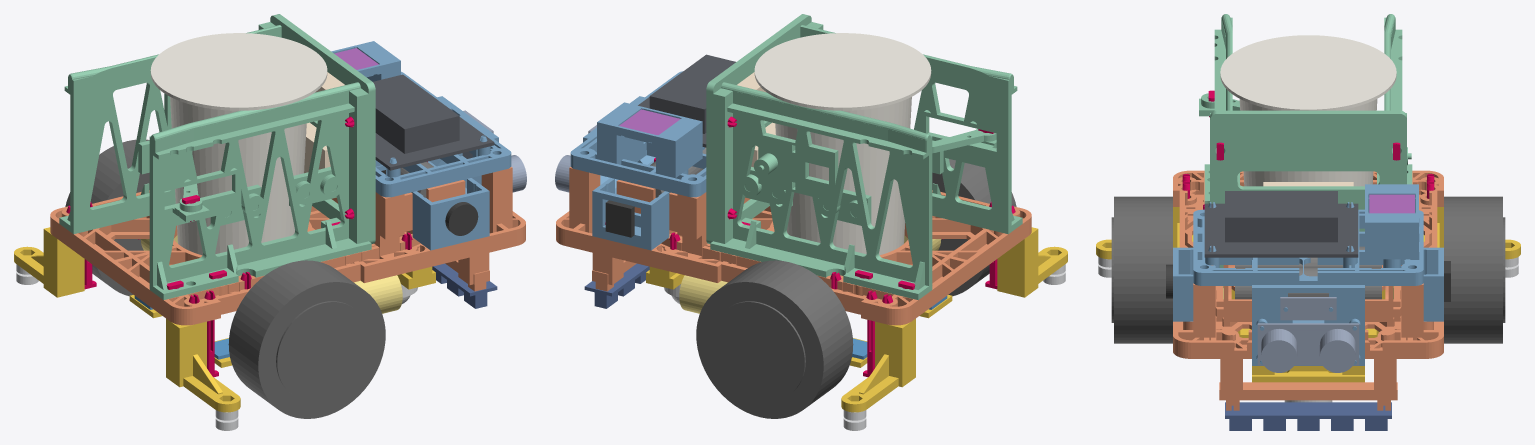
Rendered from carro_armado.glb.
The picture shows the model from 3 angles, left to right: view 1: azimuth 30°, elevation 25°; view 2: azimuth 150°, elevation 25°; view 3: azimuth 270°, elevation 25°; orthographic projection.
Parts seen in each view (by area): view 1: pared_cuna_der, comp_ruedas, comp_vaso, chasis, pared_cuna_izq, comp_esp32, piso2_esp32, soporte_rodillo_der, mampara, caja_fusible, soporte_rodillo_izq, remaches (+13 smaller); view 2: pared_cuna_izq, comp_ruedas, comp_vaso, chasis, pared_cuna_der, soporte_tb6612, piso2_esp32, soporte_rodillo_izq, mampara, caja_interruptor, comp_esp32, soporte_rodillo_der (+12 smaller); view 3: comp_ruedas, mampara, comp_vaso, chasis, comp_esp32, piso2_esp32, comp_frente, barra_tcrt5000, comp_ir, escuadra_frontal, soporte_tb6612, pared_cuna_der (+13 smaller).
Part boxes in pixels (x1=…): pared_cuna_der: x1=149, y1=82, x2=371, y2=299; comp_ruedas: x1=65, y1=139, x2=385, y2=418; comp_vaso: x1=150, y1=33, x2=327, y2=255; chasis: x1=50, y1=167, x2=525, y2=325; pared_cuna_izq: x1=59, y1=22, x2=281, y2=234; comp_esp32: x1=373, y1=74, x2=494, y2=170; piso2_esp32: x1=375, y1=71, x2=511, y2=197; soporte_rodillo_der: x1=166, y1=318, x2=240, y2=412; mampara: x1=270, y1=14, x2=375, y2=243; caja_fusible: x1=412, y1=178, x2=489, y2=250; soporte_rodillo_izq: x1=14, y1=227, x2=84, y2=297; remaches: x1=66, y1=116, x2=427, y2=377; pared_cuna_izq: x1=710, y1=82, x2=932, y2=299; comp_ruedas: x1=696, y1=159, x2=1016, y2=418; comp_vaso: x1=754, y1=33, x2=931, y2=255; chasis: x1=556, y1=167, x2=1031, y2=325; pared_cuna_der: x1=800, y1=22, x2=1022, y2=234; soporte_tb6612: x1=597, y1=102, x2=702, y2=178; piso2_esp32: x1=570, y1=71, x2=706, y2=197; soporte_rodillo_izq: x1=841, y1=318, x2=915, y2=412; mampara: x1=706, y1=14, x2=811, y2=243; caja_interruptor: x1=592, y1=178, x2=669, y2=250; comp_esp32: x1=638, y1=54, x2=735, y2=147; soporte_rodillo_der: x1=997, y1=227, x2=1067, y2=297; comp_ruedas: x1=1111, y1=196, x2=1505, y2=343; mampara: x1=1210, y1=110, x2=1406, y2=267; comp_vaso: x1=1220, y1=35, x2=1396, y2=186; chasis: x1=1173, y1=170, x2=1443, y2=358; comp_esp32: x1=1204, y1=191, x2=1358, y2=257; piso2_esp32: x1=1193, y1=202, x2=1423, y2=285; comp_frente: x1=1257, y1=297, x2=1359, y2=372; barra_tcrt5000: x1=1219, y1=331, x2=1397, y2=410; comp_ir: x1=1225, y1=402, x2=1391, y2=430; escuadra_frontal: x1=1252, y1=285, x2=1364, y2=365; soporte_tb6612: x1=1365, y1=184, x2=1418, y2=259; pared_cuna_der: x1=1199, y1=14, x2=1232, y2=203.
Size of the model in its own units: 0.1996 by 0.133 by 0.188.
